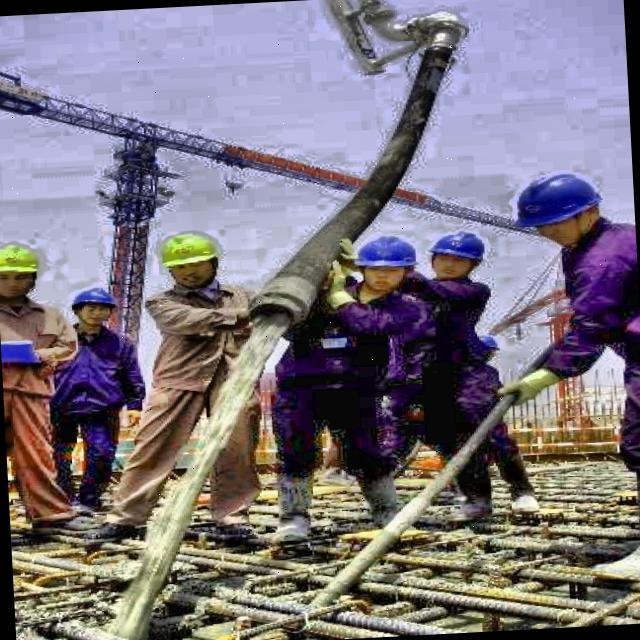helmet: (506, 168, 613, 252), (155, 228, 225, 291), (351, 232, 417, 298), (428, 228, 490, 281), (0, 242, 46, 311), (67, 278, 121, 336)
